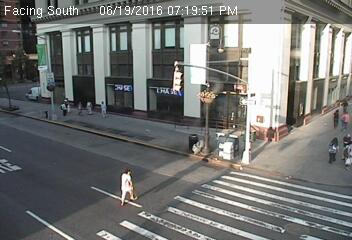neg: (275, 162, 300, 195), (168, 78, 190, 108), (69, 34, 91, 64), (275, 93, 297, 122), (246, 64, 267, 92), (210, 76, 230, 102), (183, 156, 202, 180), (51, 137, 69, 162), (227, 129, 245, 153), (177, 117, 195, 141), (211, 182, 229, 206), (255, 170, 272, 193), (119, 44, 136, 66), (274, 29, 283, 42)
pos: (109, 165, 143, 210), (318, 131, 343, 164), (324, 105, 342, 129), (58, 96, 73, 115), (83, 100, 95, 117), (96, 100, 107, 115)
